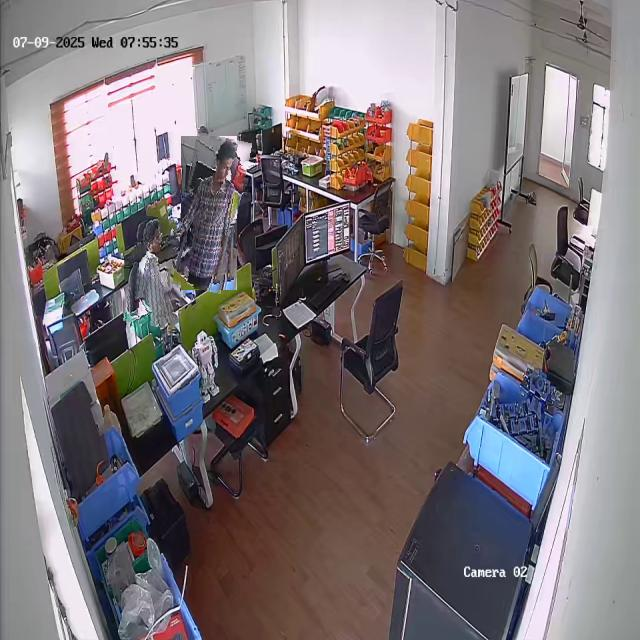person: (173, 134, 245, 292), (128, 217, 178, 327)
